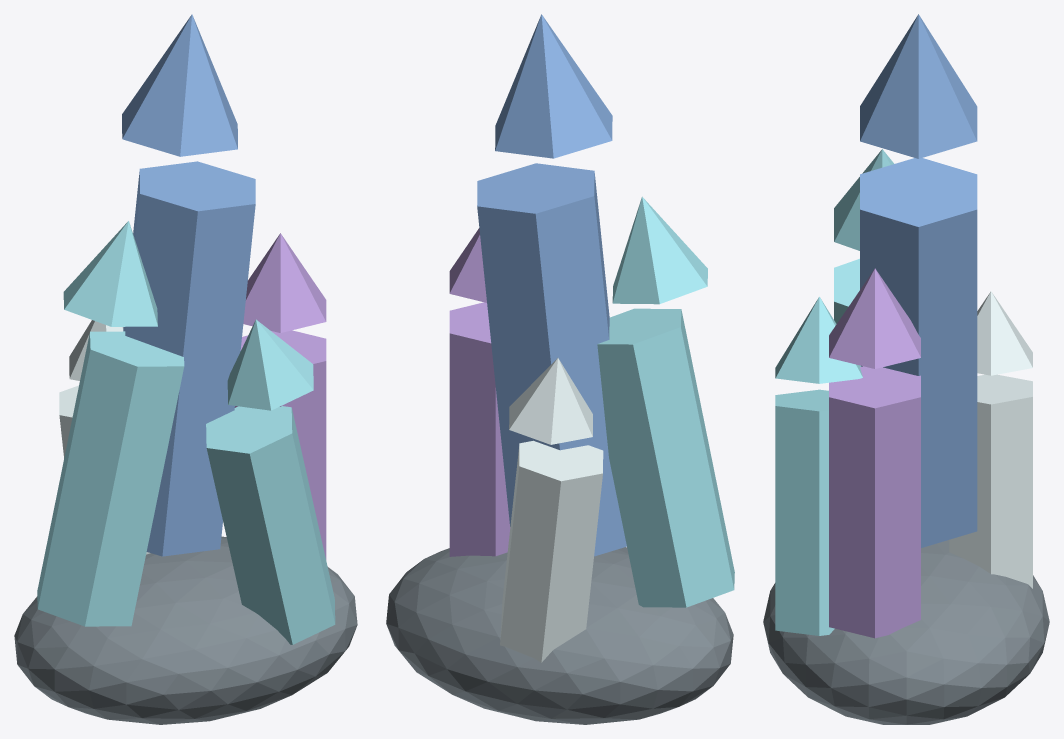
The model's file is crystal-cluster.glb.
3 renders of one model, left to right at view 1: azimuth 30°, elevation 25°; view 2: azimuth 150°, elevation 25°; view 3: azimuth 270°, elevation 25°, orthographic.
Parts seen in each view (by area): view 1: crystal-cluster-10, crystal-cluster-2, crystal-cluster-0, crystal-cluster-8, crystal-cluster-3, crystal-cluster-1, crystal-cluster-5, crystal-cluster-9, crystal-cluster-4, crystal-cluster-7, crystal-cluster-6; view 2: crystal-cluster-10, crystal-cluster-2, crystal-cluster-0, crystal-cluster-6, crystal-cluster-4, crystal-cluster-3, crystal-cluster-1, crystal-cluster-7, crystal-cluster-5; view 3: crystal-cluster-2, crystal-cluster-10, crystal-cluster-4, crystal-cluster-8, crystal-cluster-6, crystal-cluster-3, crystal-cluster-5, crystal-cluster-9, crystal-cluster-7, crystal-cluster-1, crystal-cluster-0.
Boxes of the visible parts, x1,y1,x2,y2 form: crystal-cluster-10: [14, 536, 357, 724]; crystal-cluster-2: [123, 161, 255, 556]; crystal-cluster-0: [37, 331, 184, 626]; crystal-cluster-8: [206, 406, 335, 644]; crystal-cluster-3: [122, 14, 237, 156]; crystal-cluster-1: [63, 221, 157, 326]; crystal-cluster-5: [243, 233, 326, 332]; crystal-cluster-9: [227, 319, 313, 410]; crystal-cluster-4: [234, 330, 326, 559]; crystal-cluster-7: [69, 320, 123, 380]; crystal-cluster-6: [59, 385, 150, 554]; crystal-cluster-10: [386, 547, 733, 724]; crystal-cluster-2: [477, 163, 626, 556]; crystal-cluster-0: [597, 308, 734, 607]; crystal-cluster-6: [500, 440, 603, 662]; crystal-cluster-4: [449, 302, 510, 556]; crystal-cluster-3: [495, 14, 612, 158]; crystal-cluster-1: [612, 196, 707, 304]; crystal-cluster-7: [509, 358, 592, 444]; crystal-cluster-5: [449, 228, 486, 302]; crystal-cluster-2: [860, 158, 977, 547]; crystal-cluster-10: [763, 540, 1049, 724]; crystal-cluster-4: [829, 366, 920, 638]; crystal-cluster-8: [775, 389, 834, 635]; crystal-cluster-6: [949, 374, 1032, 588]; crystal-cluster-3: [860, 14, 977, 158]; crystal-cluster-5: [829, 268, 920, 368]; crystal-cluster-9: [775, 296, 862, 383]; crystal-cluster-7: [977, 291, 1032, 375]; crystal-cluster-1: [834, 149, 894, 250]; crystal-cluster-0: [834, 258, 859, 323].
Size of the model in its own units: 1.53 by 3.12 by 1.19.
